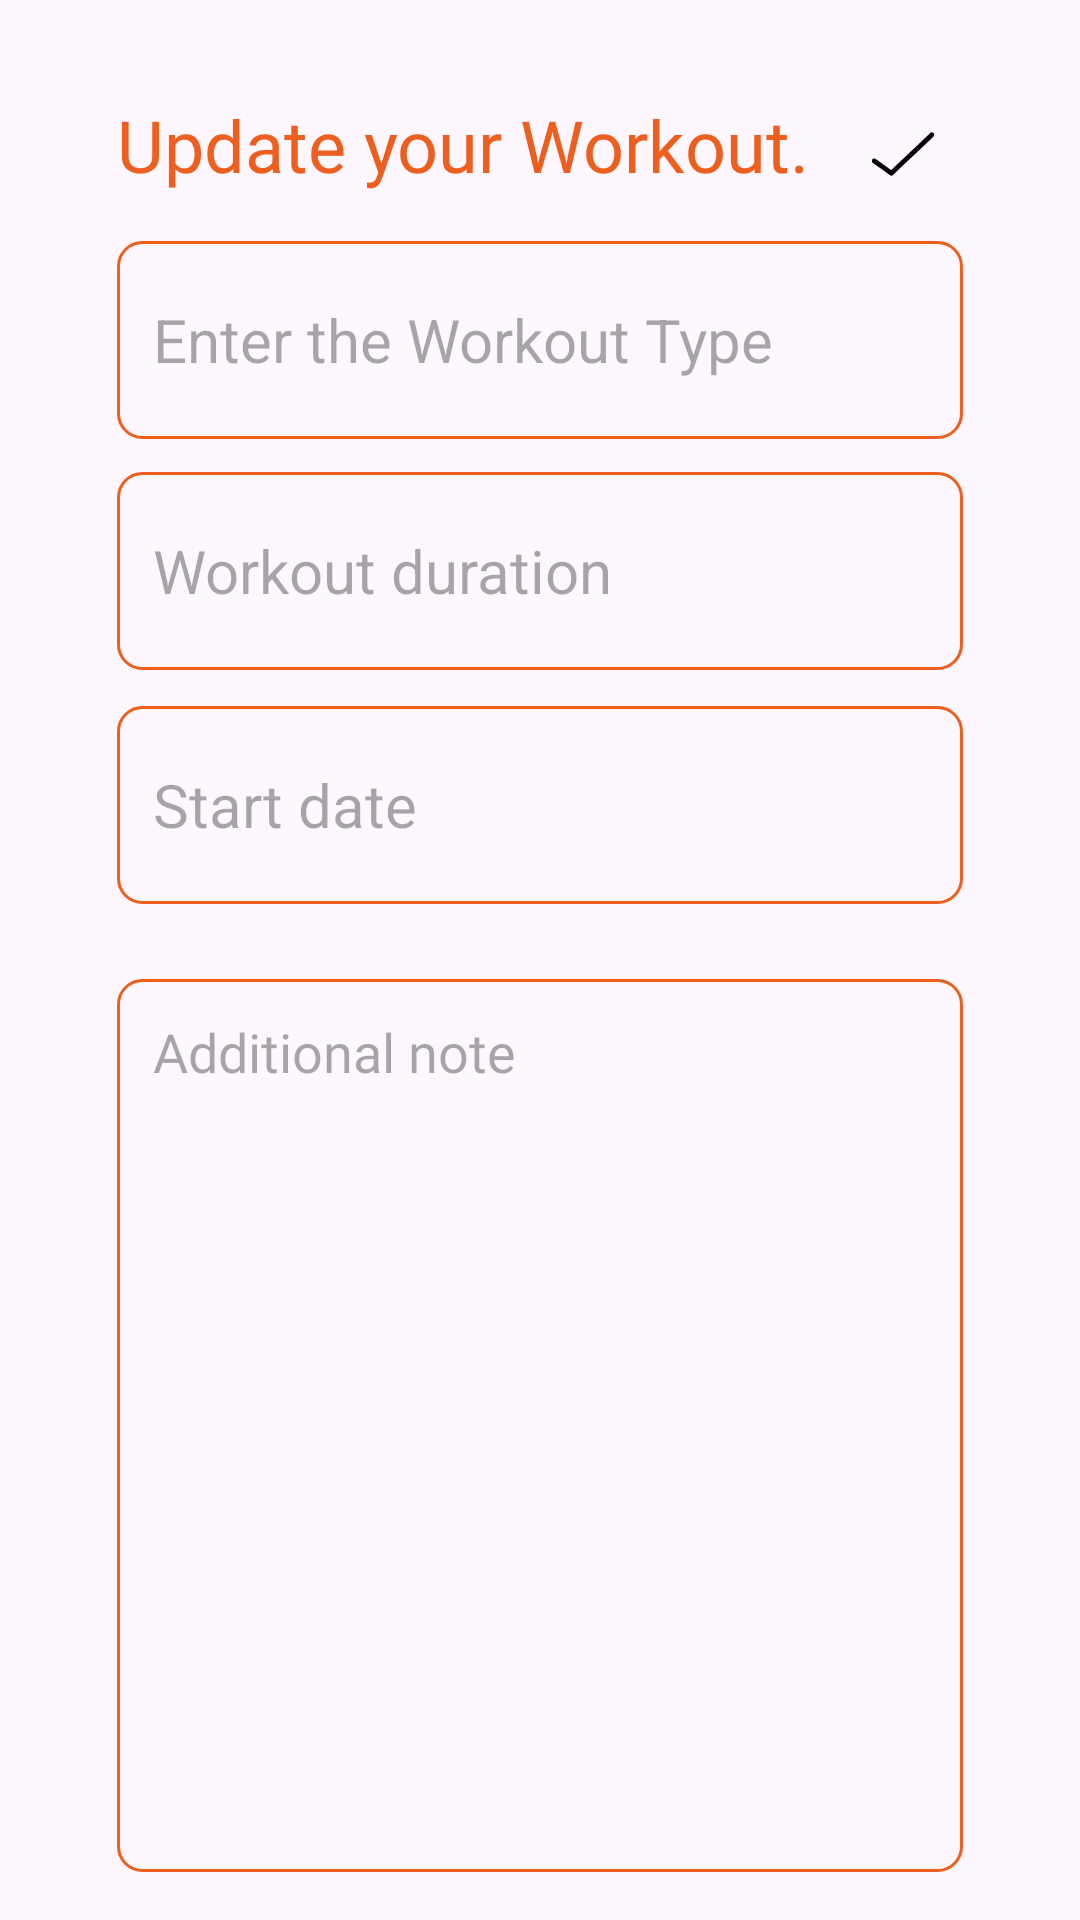

Icon click points for this 1080x1920 phone screenshot, format (x=x, y=y):
done: (x=903, y=154)
